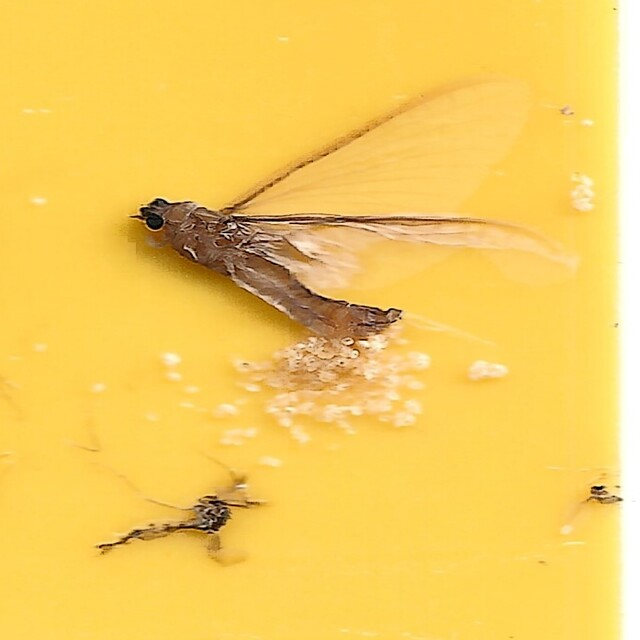Ephemeroptera: (129, 70, 548, 350)
Nematocera: (92, 476, 267, 570)
